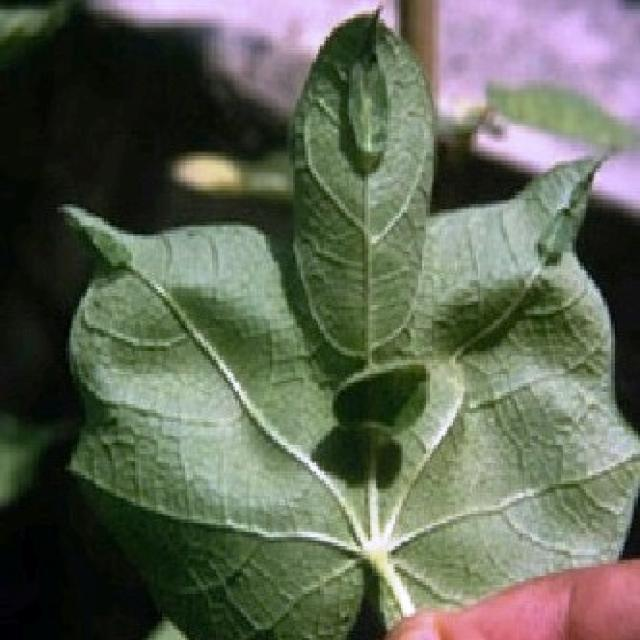Leaf Curl Virus: (202, 81, 481, 546)
